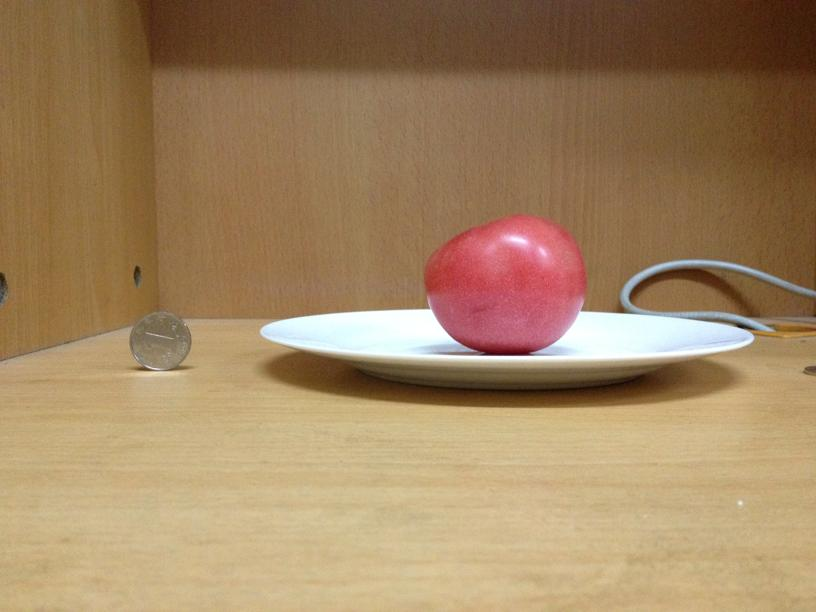coin: (130, 309, 190, 373)
tomato: (416, 210, 586, 353)
